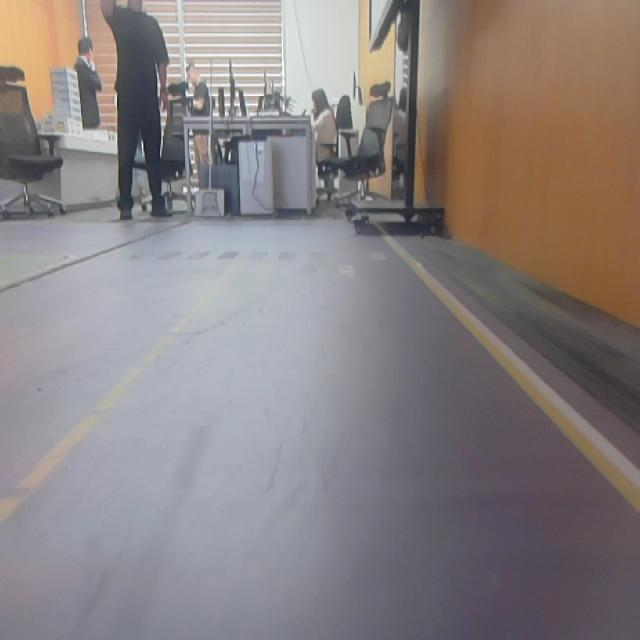left_lane: (0, 254, 245, 525)
right_lane: (383, 234, 640, 515)
